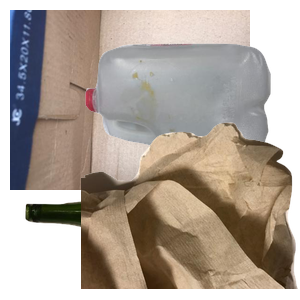cardboard: (10, 10, 250, 190)
glass: (23, 186, 249, 300)
plastic: (83, 41, 300, 194)
trash: (81, 120, 300, 300)
